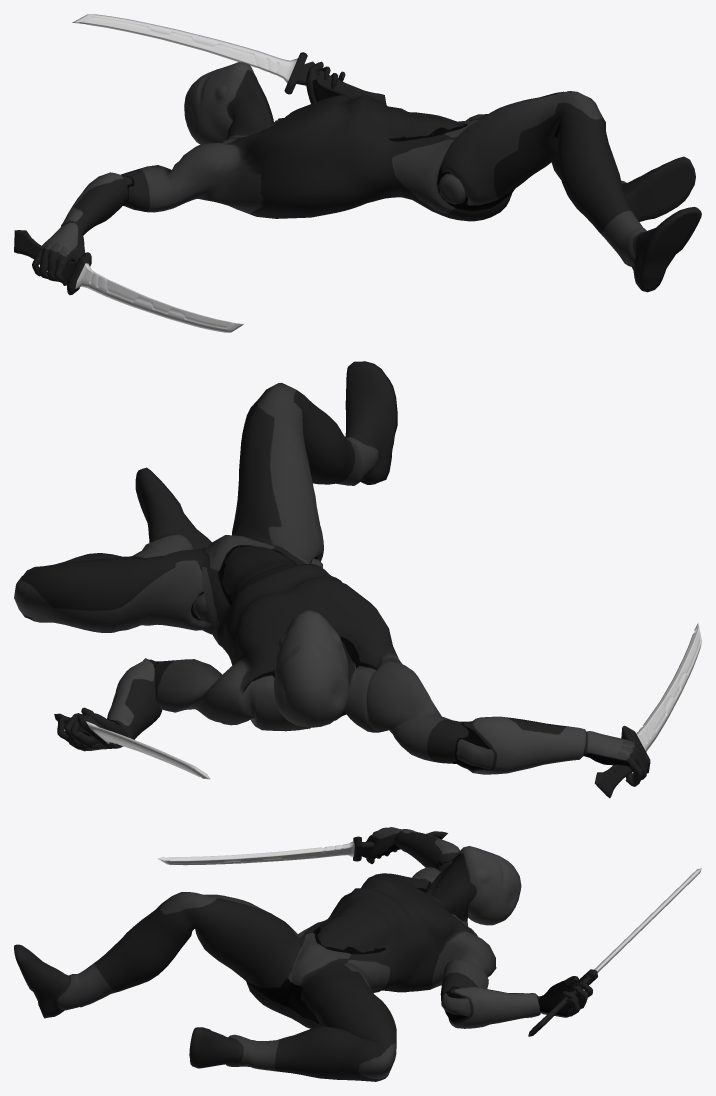
3 renders of one model, top to bottom at view 1: azimuth 30°, elevation 25°; view 2: azimuth 150°, elevation 25°; view 3: azimuth 270°, elevation 25°, orthographic. The views are drawn at different scales.
Visible parts, largest first — view 1: Cyborg_Ninja_Killer, Sword_l, Sword_l001; view 2: Cyborg_Ninja_Killer, Sword_l001, Sword_l; view 3: Cyborg_Ninja_Killer, Sword_l001, Sword_l.
Part boxes in pixels (x1,y1,x2,y2): Cyborg_Ninja_Killer: (32,61,701,292); Sword_l: (72,14,386,103); Sword_l001: (14,230,243,332); Cyborg_Ninja_Killer: (14,361,650,786); Sword_l001: (594,623,701,798); Sword_l: (54,713,209,779); Cyborg_Ninja_Killer: (14,827,592,1081); Sword_l001: (157,831,447,865); Sword_l: (528,868,701,1036).
Bounding box in the file's own units: 174 × 50.22 × 204.
Materials: 2 (2 with a texture image).
